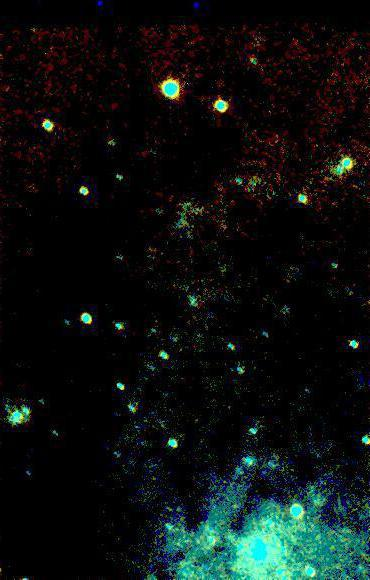star: (215, 490, 245, 520)
